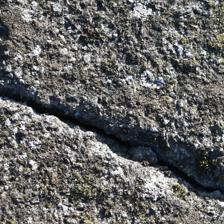Crack: (2, 36, 219, 166)
